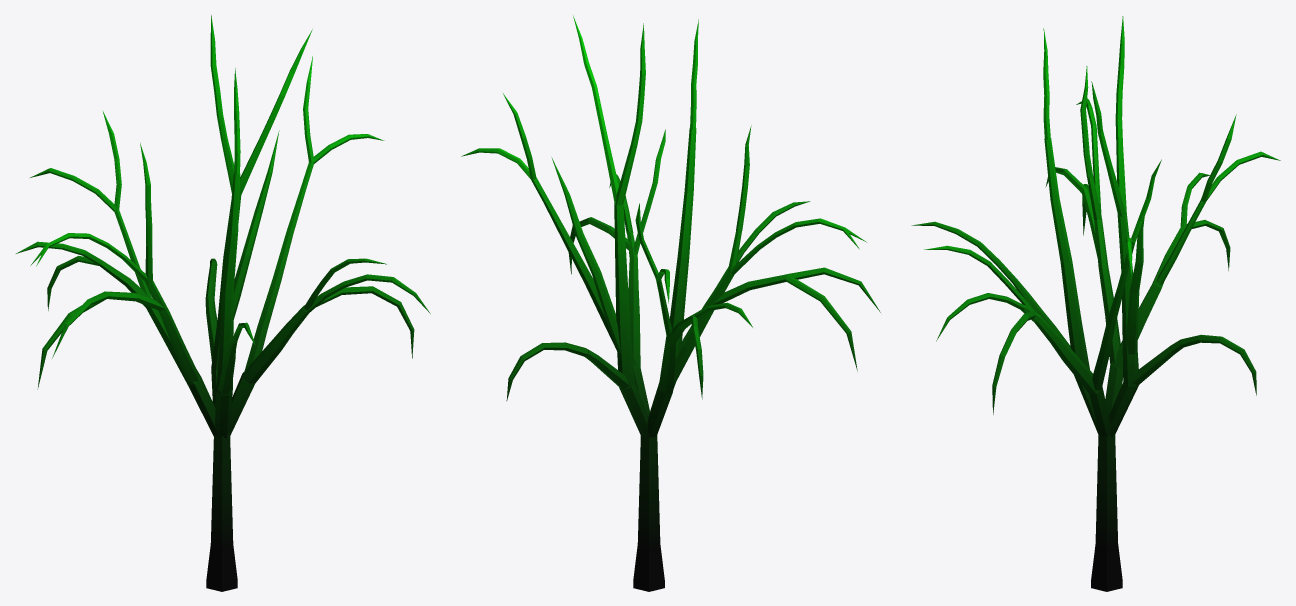
File: SM_Tree_Dead_02.fbx
3 renders of one model, left to right at view 1: azimuth 30°, elevation 25°; view 2: azimuth 150°, elevation 25°; view 3: azimuth 270°, elevation 25°, orthographic.
Parts seen in each view (by area): view 1: SM_Tree_Dead_02; view 2: SM_Tree_Dead_02; view 3: SM_Tree_Dead_02.
Boxes of the visible parts, <box> form: SM_Tree_Dead_02: <box>16,15,430,591</box>; SM_Tree_Dead_02: <box>461,15,880,591</box>; SM_Tree_Dead_02: <box>911,16,1280,591</box>.
Bounding box in the file's own units: 528 × 755 × 447.
